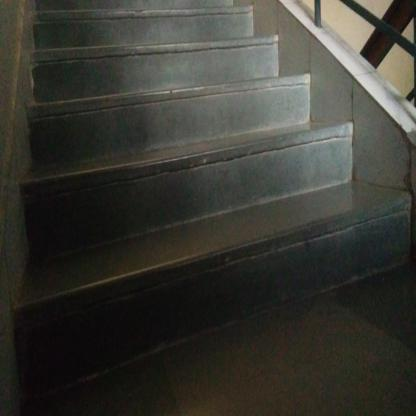stairs: (61, 77, 289, 375)
